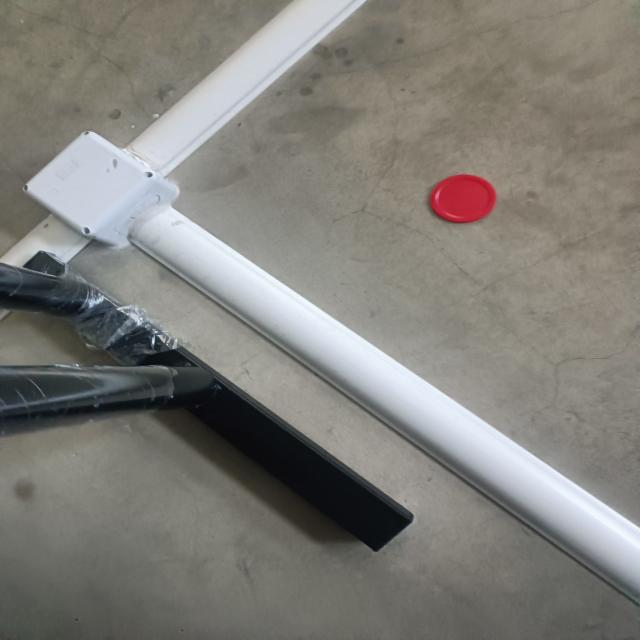chip: (428, 172, 498, 225)
